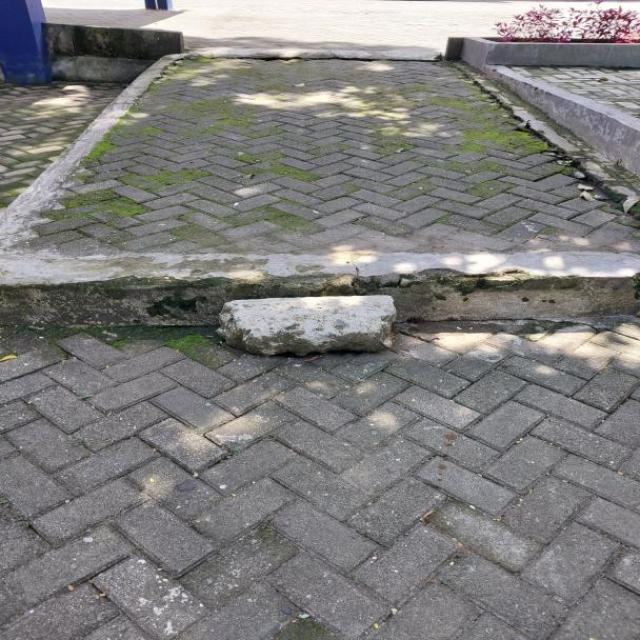stones ahead at: (213, 292, 421, 358)
